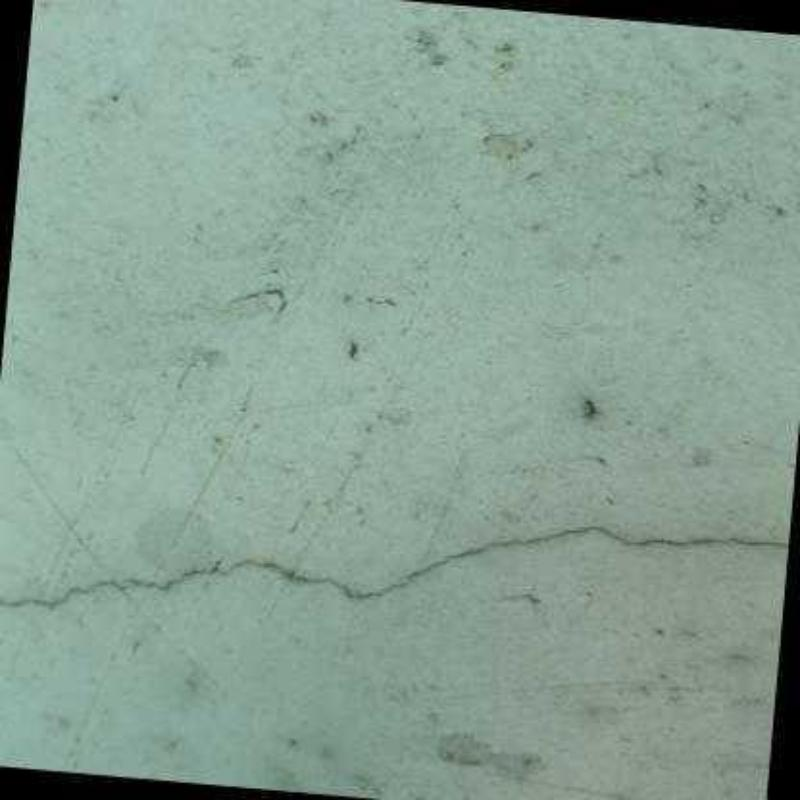pothole: (0, 524, 789, 607)
